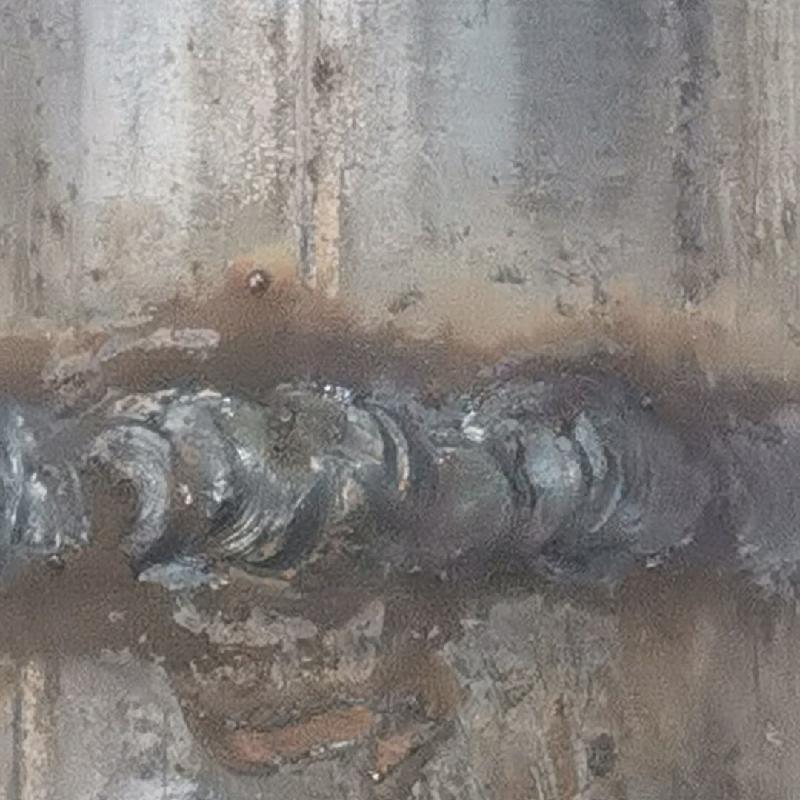good: (1, 379, 799, 577)
